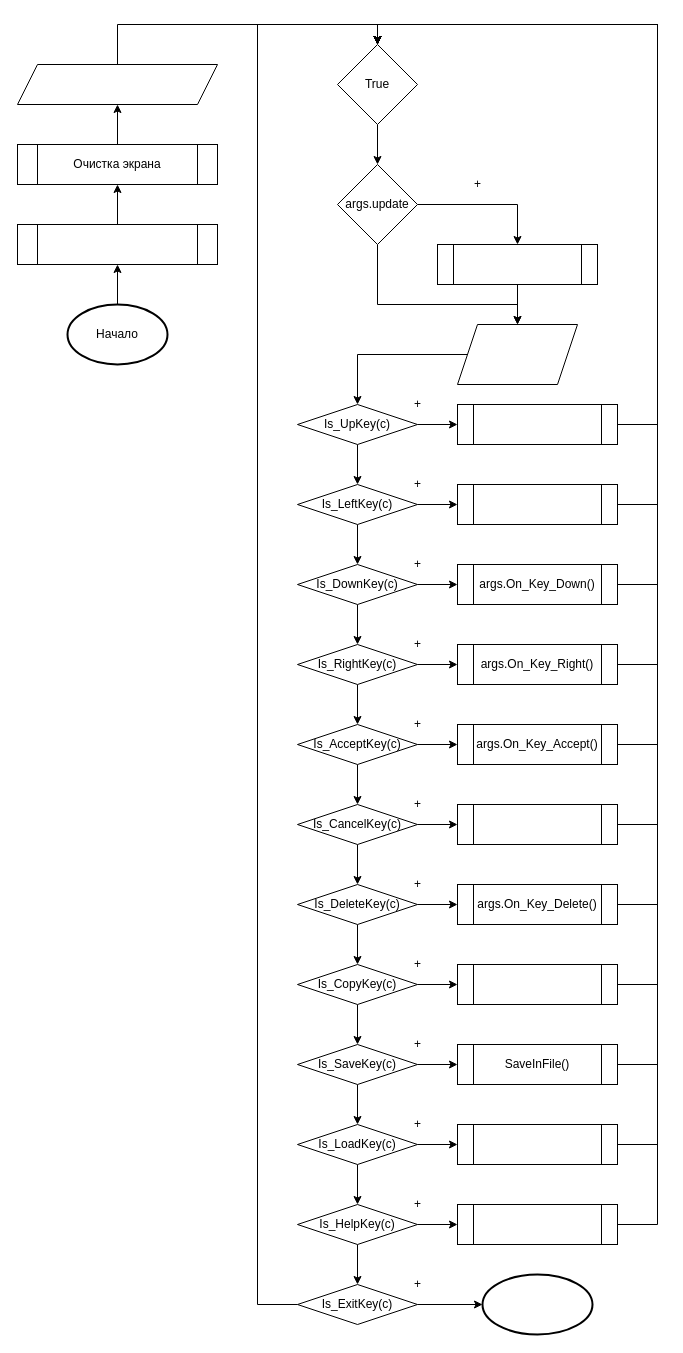
The diagram is 683 pixels wide and 1353 high, and some of its shapes have lost their labels. The centre of each missing label's shape, as x and y in pixels:
"args.On_Key_Cancel()" belongs at (537,824).
"args.On_Key_Left()" belongs at (537,504).
"args.On_Key_UP()" belongs at (537,424).
"char c = _getch()" belongs at (517,354).
"CopyInBufer()" belongs at (537,984).
"LoadFromFile()" belongs at (537,1144).
"ShowHelpMessage()" belongs at (537,1224).
"Update_Window(args)" belongs at (517,264).
"Инициализация необходимых объектов" belongs at (117,244).
"Конец" belongs at (537,1304).
"Справка: 'F2' Ctrl + h, Ctrl + i" belongs at (117,84).
